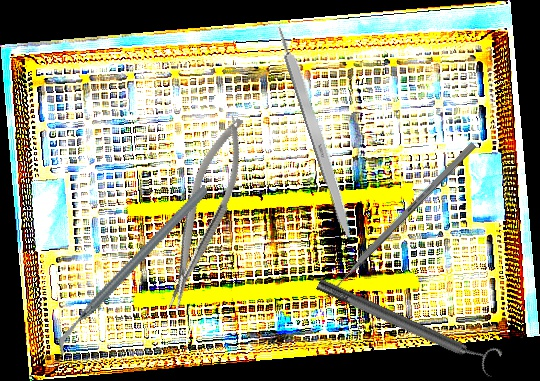Chopper: (21, 184, 245, 357)
Fixation Ring: (312, 268, 504, 380)
Needle Holder: (147, 111, 260, 315)
Pusher: (318, 141, 477, 305)
Scalpel Handle: (274, 23, 359, 244)
